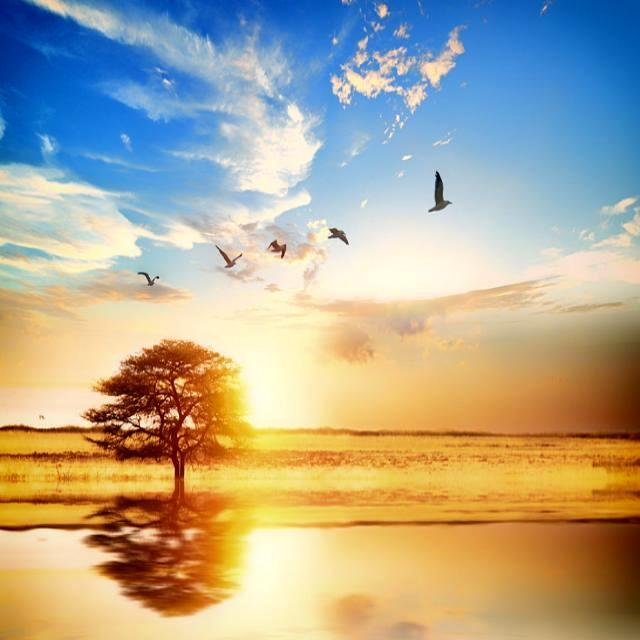bird: (426, 168, 456, 224), (212, 246, 245, 276), (327, 225, 358, 249), (134, 268, 164, 292), (264, 241, 290, 260)
